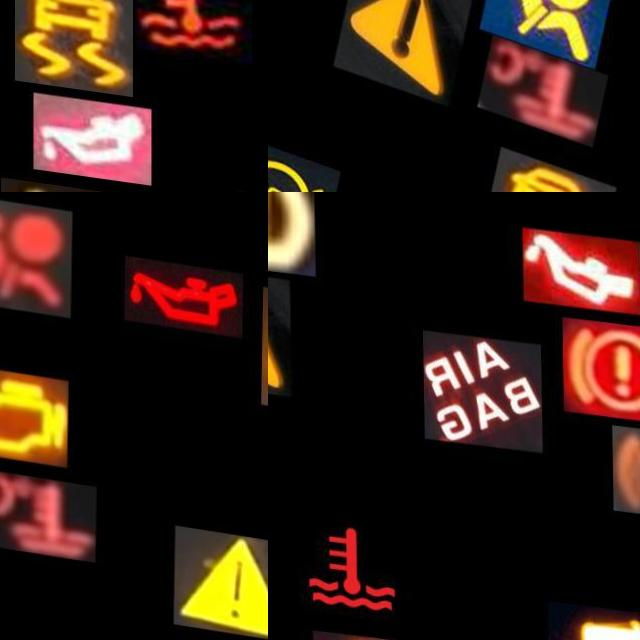Central Warning lamp: (333, 0, 473, 100), (174, 515, 268, 629)
Engine cooling system: (292, 493, 412, 626), (478, 23, 609, 137), (0, 463, 97, 555), (134, 0, 252, 53)
